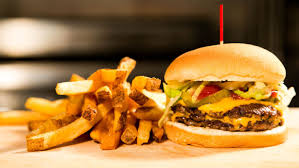hamburger: (166, 43, 291, 148)
